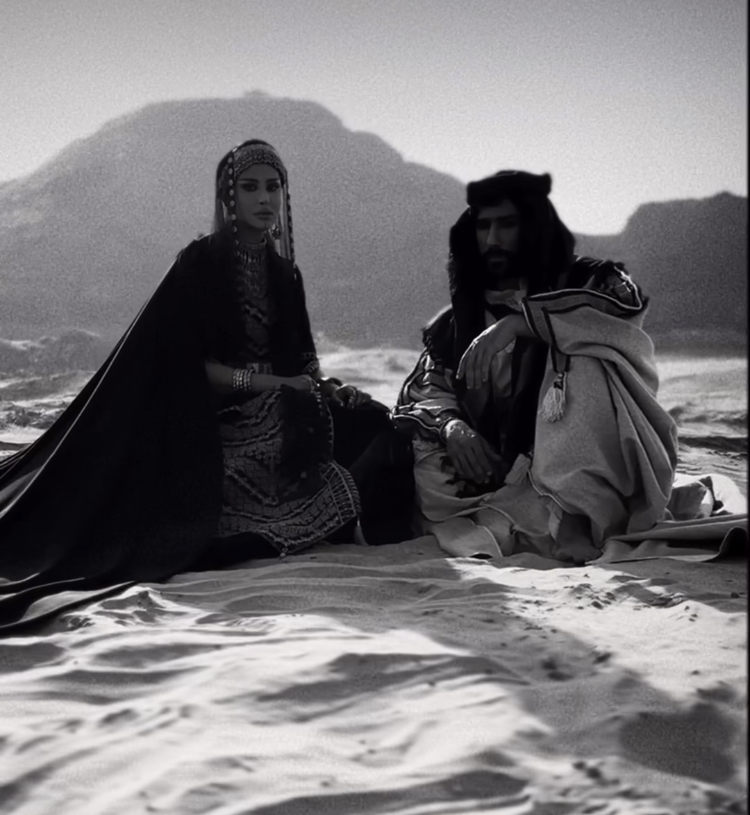Saudi_Founding_Day: (1, 130, 416, 638), (383, 163, 749, 576)
